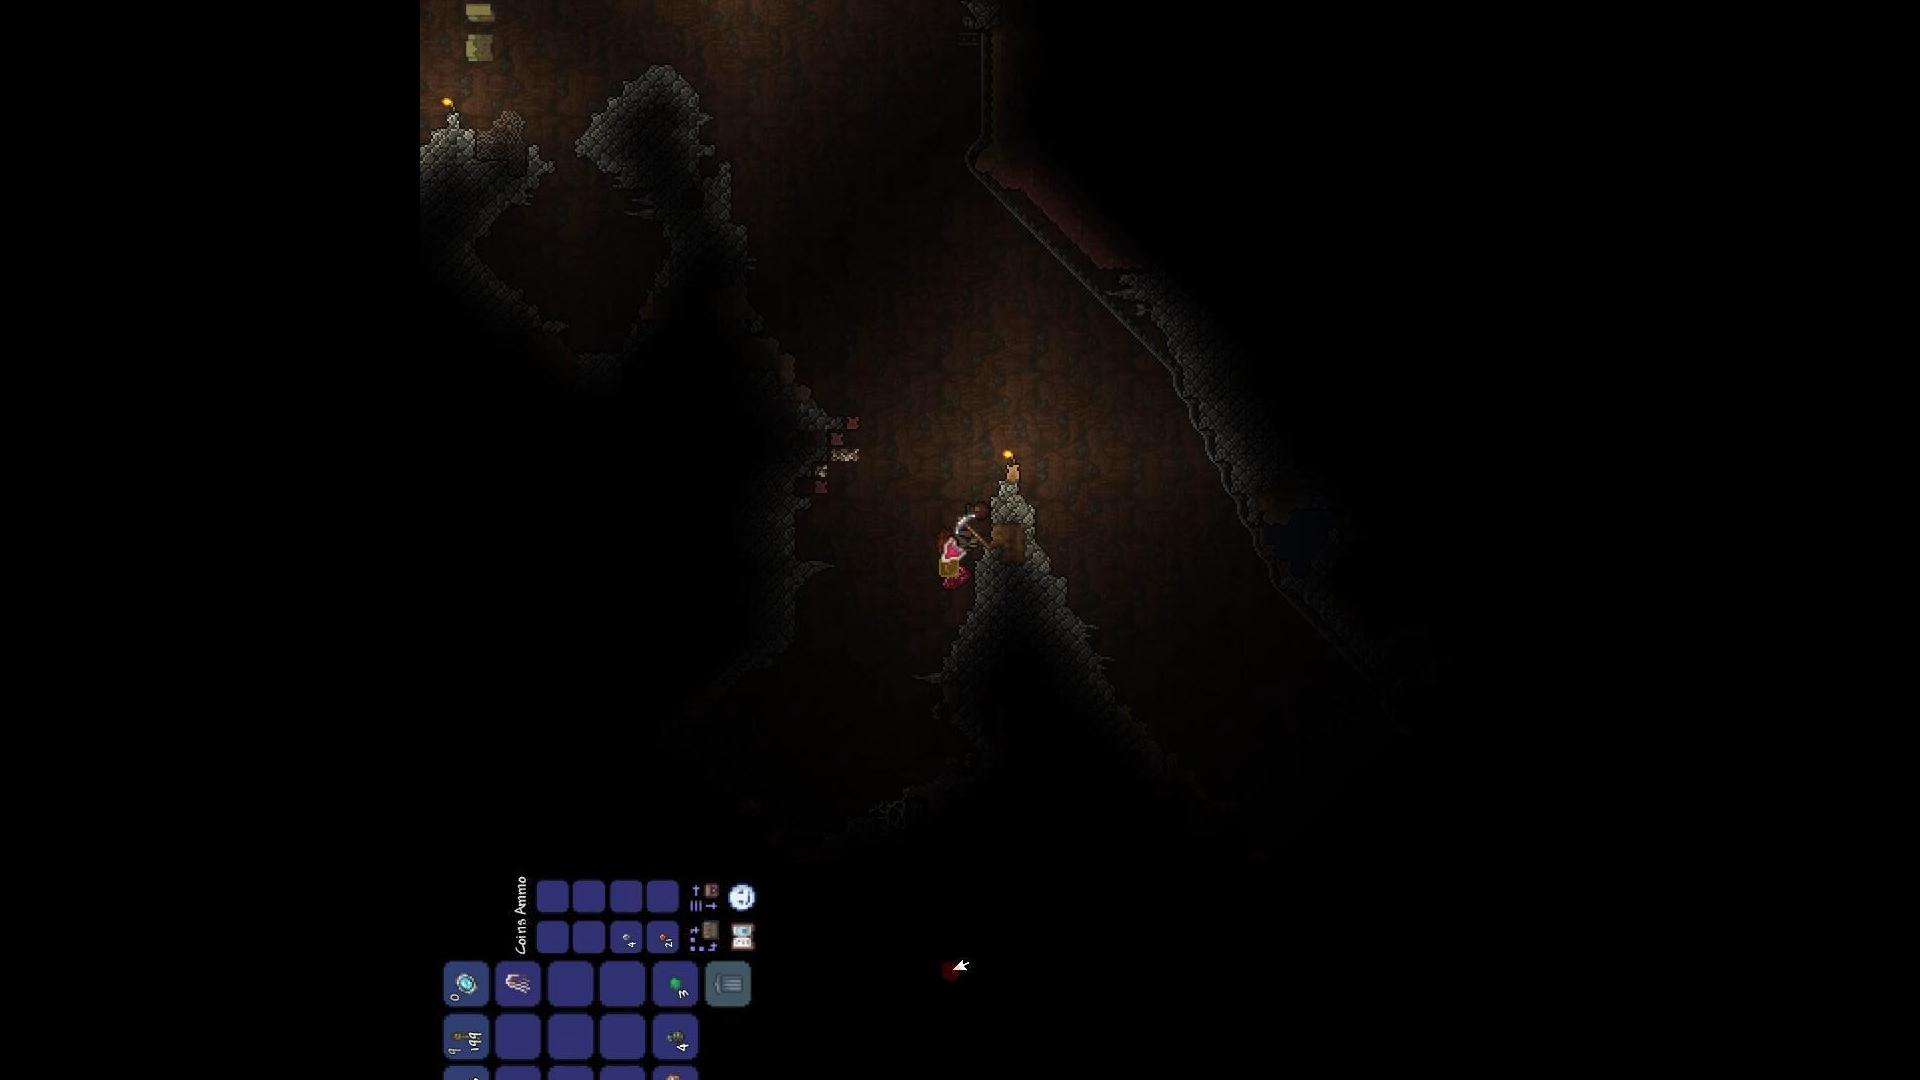lifeC: (938, 553, 980, 600)
pot: (949, 487, 993, 526)
